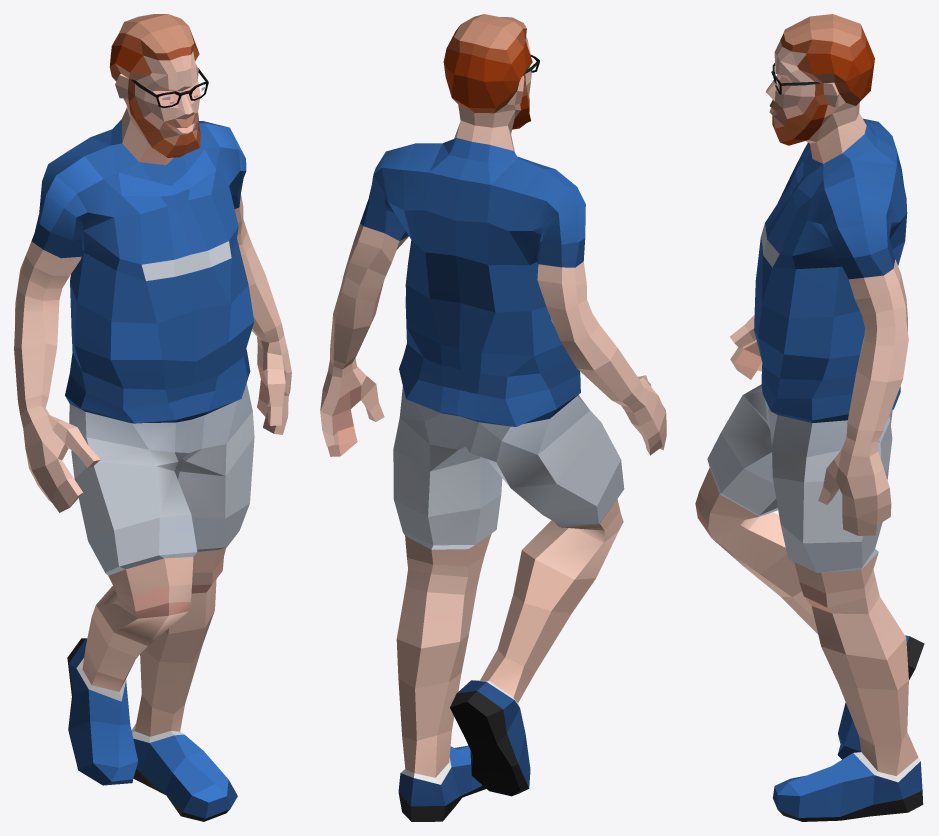
File: man-walking.glb
3 views of the same model, side by side, from view 1: azimuth 30°, elevation 25°; view 2: azimuth 150°, elevation 25°; view 3: azimuth 270°, elevation 25° (orthographic). The views are drawn at different scales.
Parts seen in each view (by area): view 1: man-walking; view 2: man-walking; view 3: man-walking.
Boxes of the visible parts, x1,y1,x2,y2 form: man-walking: [14, 14, 291, 821]; man-walking: [320, 14, 666, 821]; man-walking: [695, 14, 924, 821].
Size of the model in its own units: 0.6867 by 1.75 by 0.471.
1 material, 1 textured.
